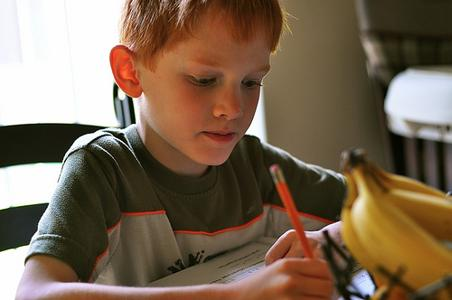person: (14, 1, 352, 300)
